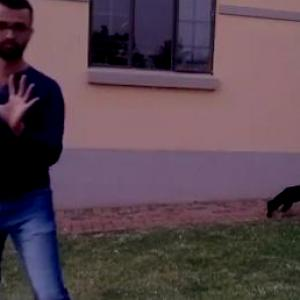follow_hand: (1, 64, 47, 144)
